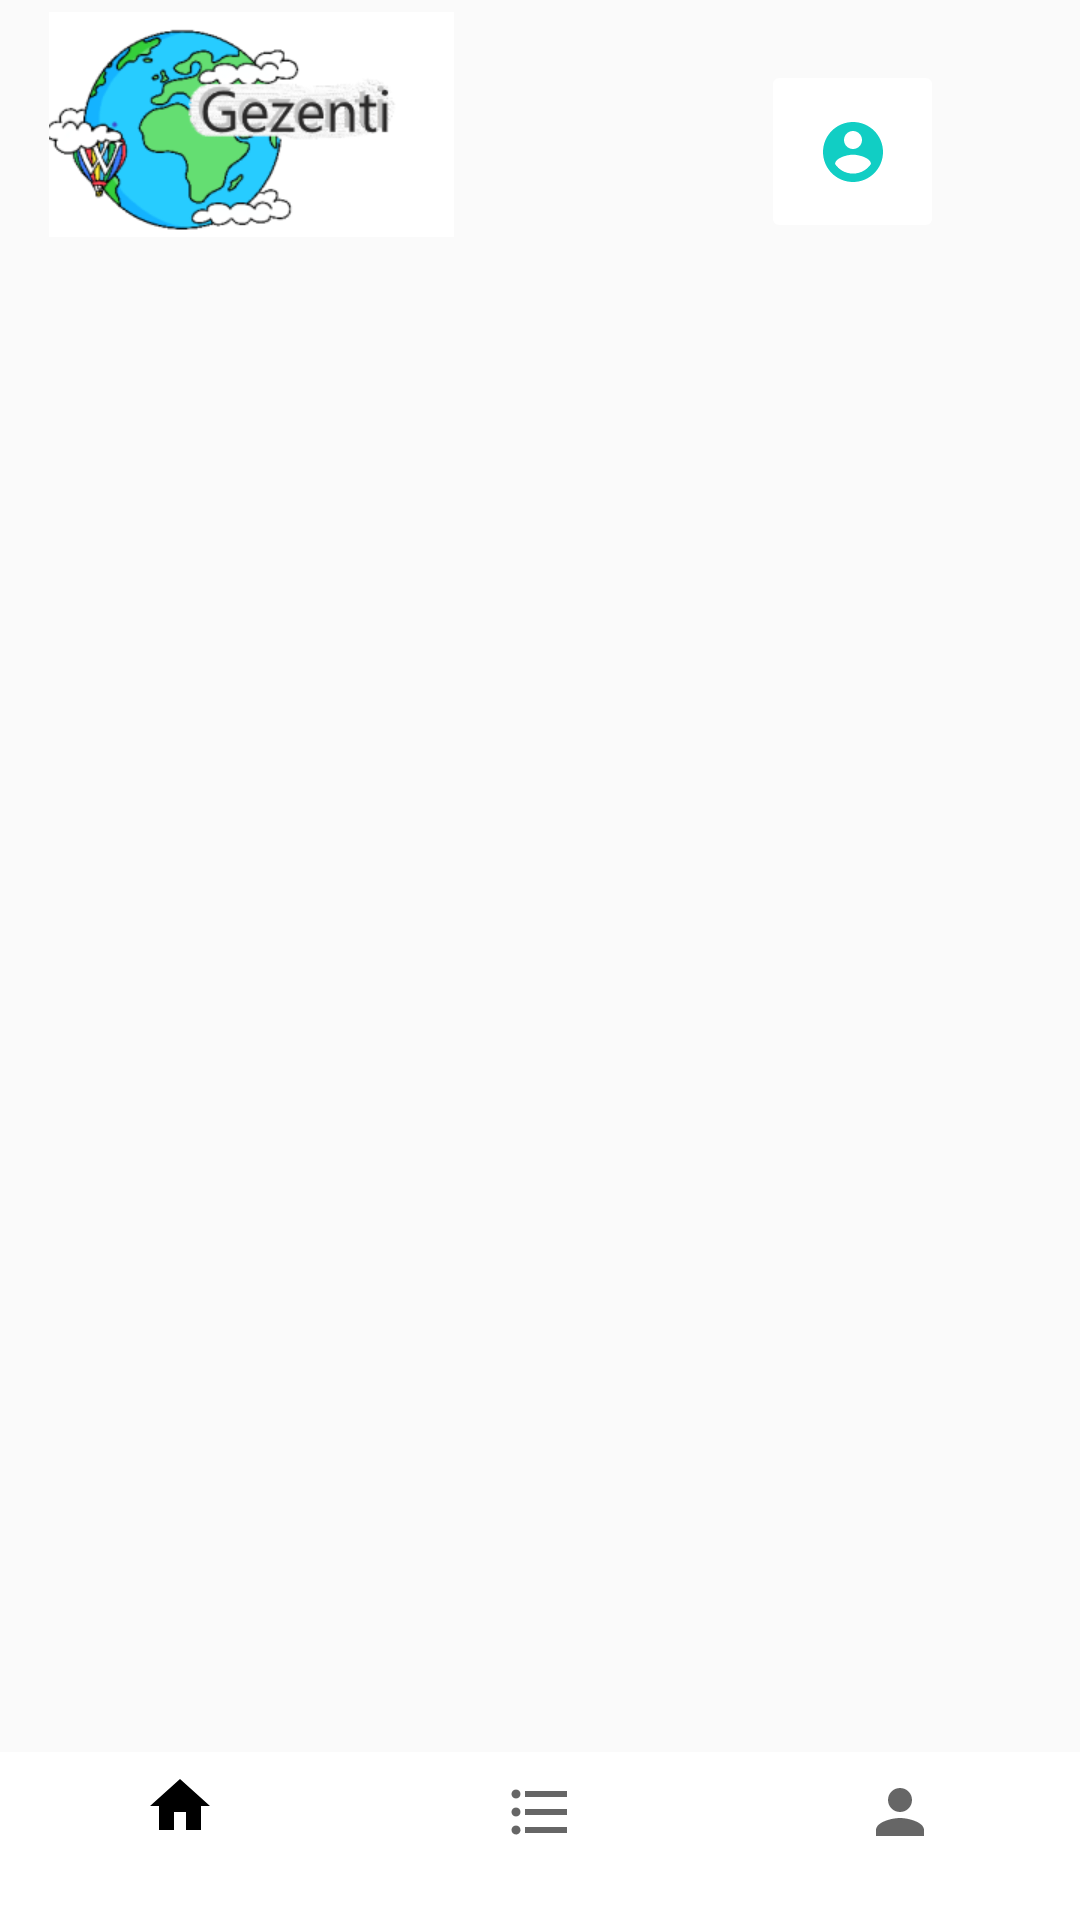

Where icons sit on this 1080w x 1920h app screen, as BBox(x1, y1, x2, y2):
account circle: BBox(823, 122, 883, 182)
